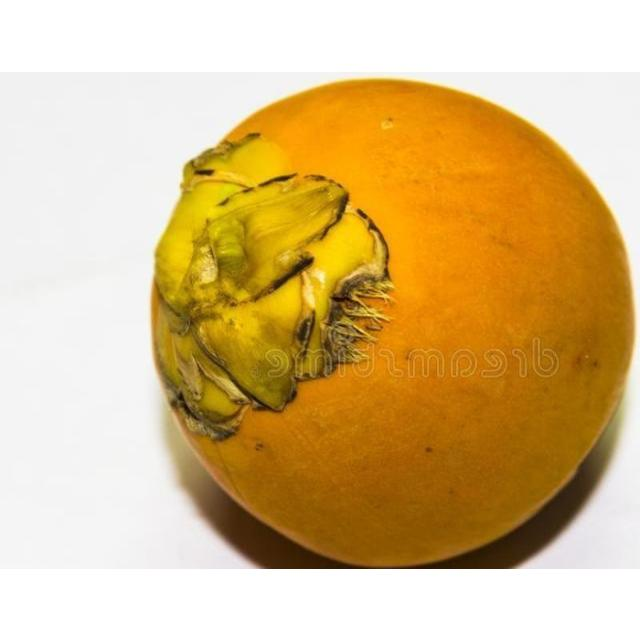good: (151, 77, 637, 568)
